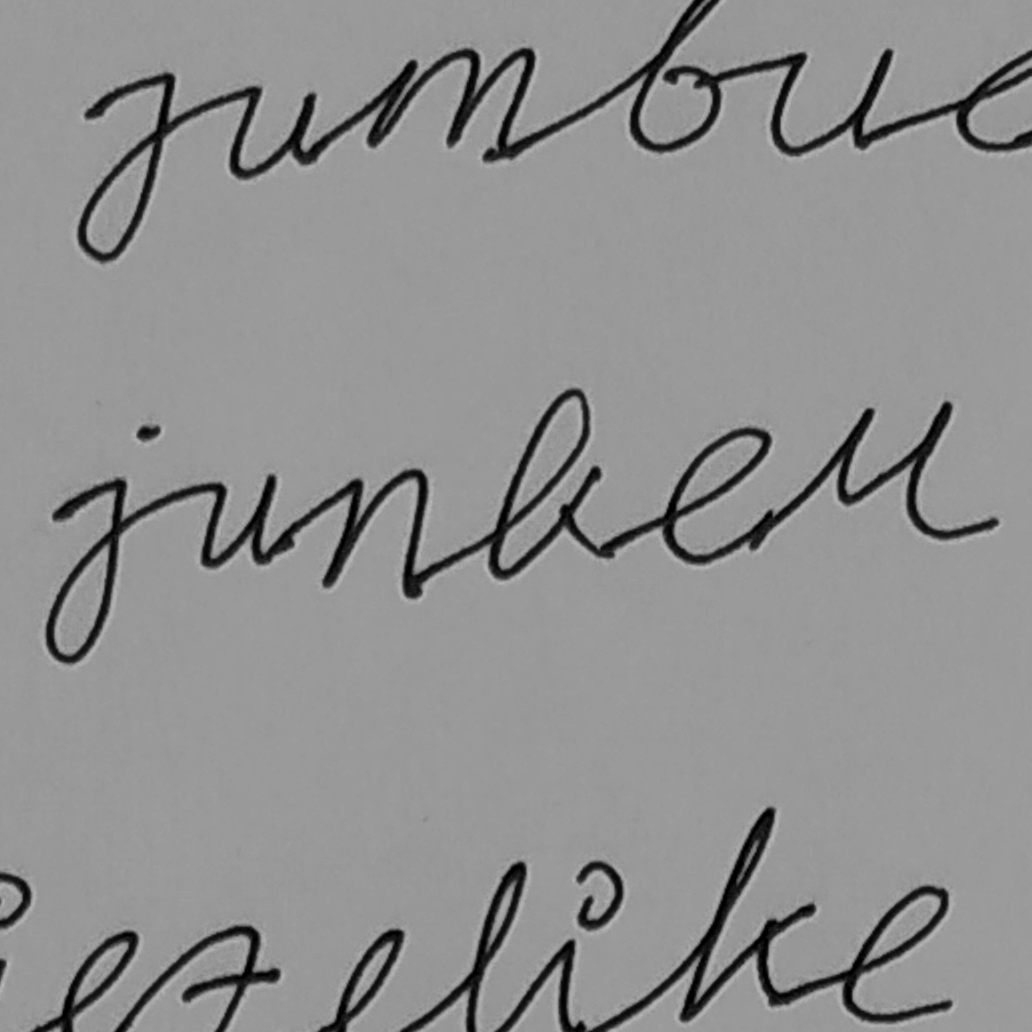e: (657, 423, 776, 567)
j: (41, 423, 163, 667)
k: (485, 385, 618, 585)
n: (316, 465, 431, 604)
r: (813, 397, 955, 549)
u: (193, 470, 279, 571)
